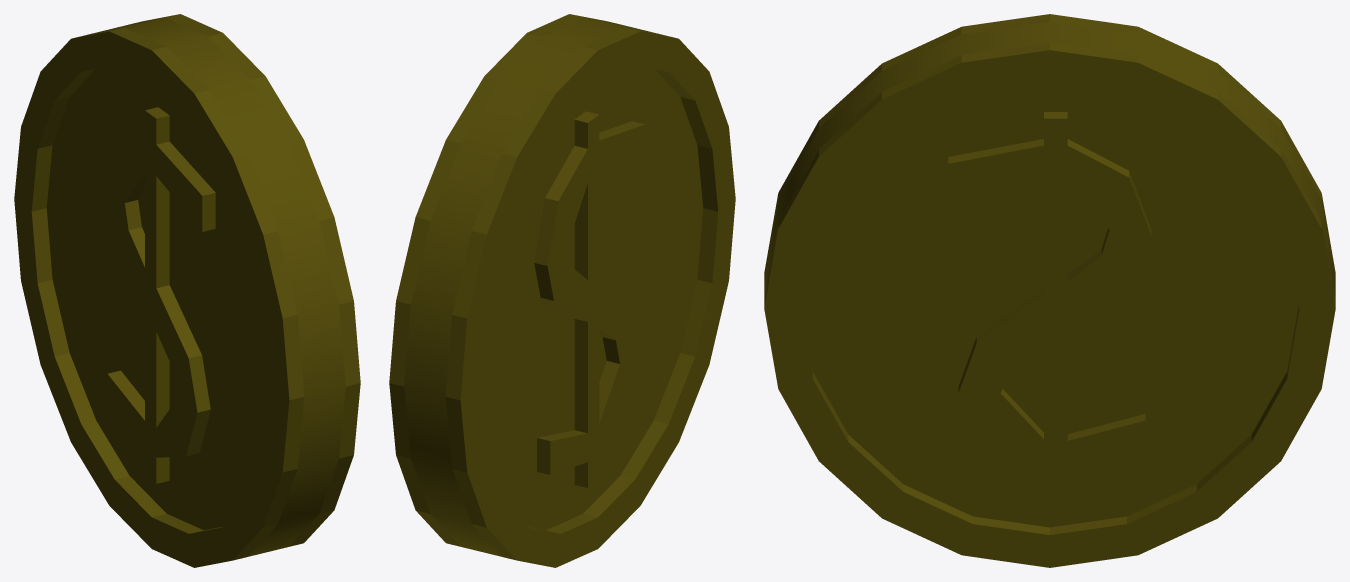
The model's file is A Simple Coin.dae.
The picture shows the model from 3 angles, left to right: view 1: azimuth 30°, elevation 25°; view 2: azimuth 150°, elevation 25°; view 3: azimuth 270°, elevation 25°; orthographic projection. The views are drawn at different scales.
Visible parts, largest first — view 1: Ya_Coin; view 2: Ya_Coin; view 3: Ya_Coin.
Part boxes in pixels (<box>): Ya_Coin: <box>14,14,360,567</box>; Ya_Coin: <box>389,14,735,567</box>; Ya_Coin: <box>764,14,1335,567</box>.
Bounding box in the file's own units: 0.2993 × 2 × 2.
